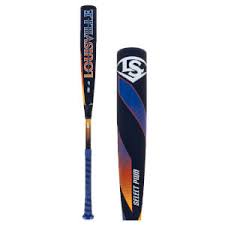baseball bat: (116, 47, 147, 221), (80, 5, 98, 220)
